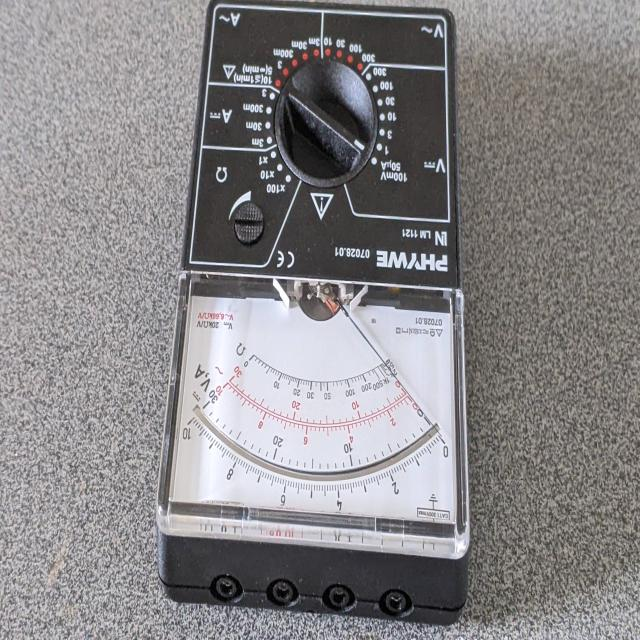Analog Multimeter: (152, 4, 488, 636)
